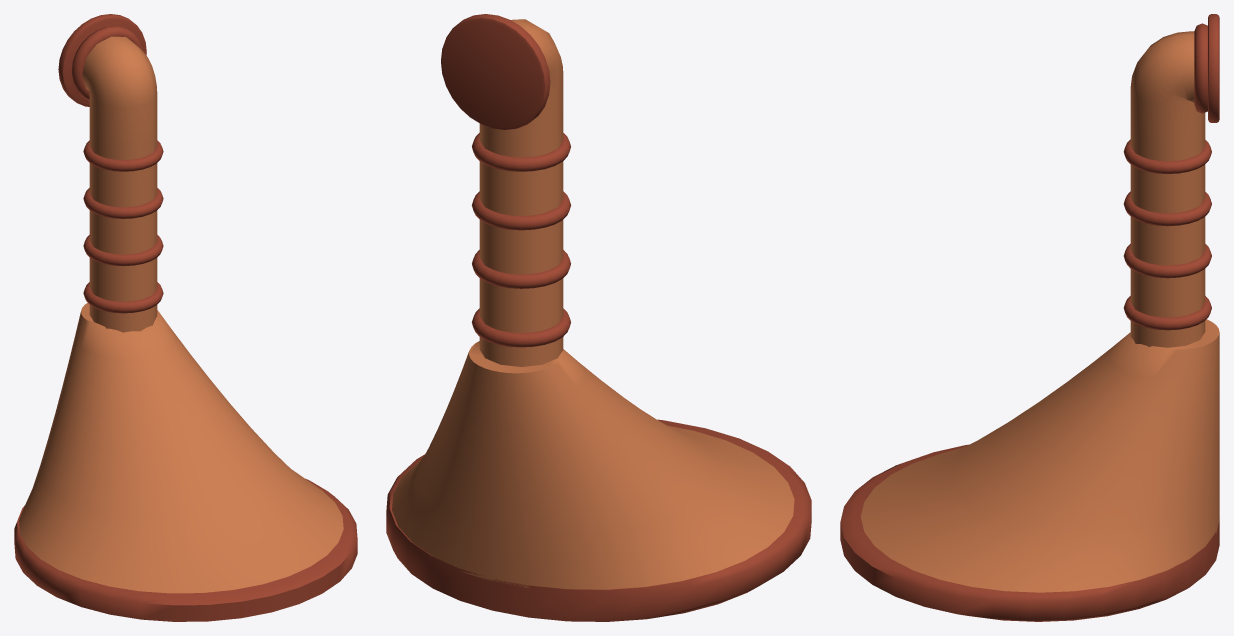
File: coifa_tubo_cobre.glb
3 renders of one model, left to right at view 1: azimuth 30°, elevation 25°; view 2: azimuth 150°, elevation 25°; view 3: azimuth 270°, elevation 25°, orthographic. The views are drawn at different scales.
Visible parts, largest first — view 1: coifa_tubo_cobre; view 2: coifa_tubo_cobre; view 3: coifa_tubo_cobre.
Part boxes in pixels (x1,y1,x2,y2): coifa_tubo_cobre: (14, 14, 357, 621); coifa_tubo_cobre: (386, 14, 811, 621); coifa_tubo_cobre: (840, 14, 1219, 621).
Size of the model in its own units: 0.66 by 1.01 by 0.66.
Materials: 2 (1 with a texture image).
